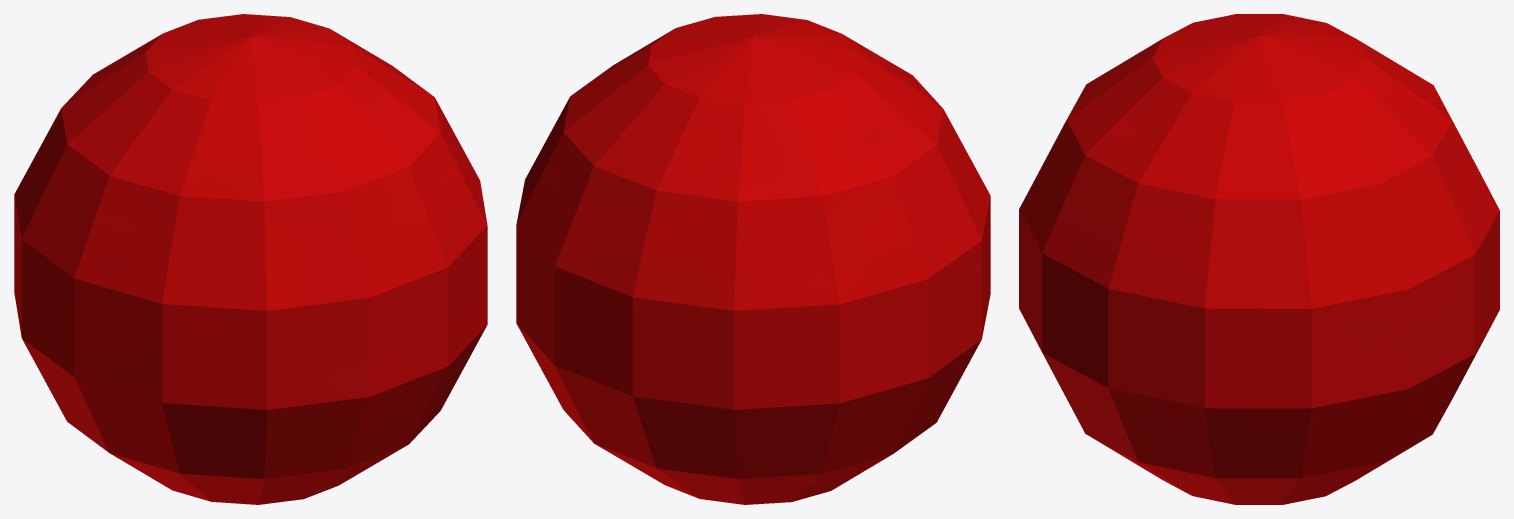
Rendered from CLOWN NOSE.fbx.
The picture shows the model from 3 angles, left to right: view 1: azimuth 30°, elevation 25°; view 2: azimuth 150°, elevation 25°; view 3: azimuth 270°, elevation 25°; orthographic projection.
Parts seen in each view (by area): view 1: CLOWN_NOSE; view 2: CLOWN_NOSE; view 3: CLOWN_NOSE.
Boxes of the visible parts, x1,y1,x2,y2 form: CLOWN_NOSE: [14, 14, 487, 504]; CLOWN_NOSE: [516, 14, 990, 504]; CLOWN_NOSE: [1019, 14, 1499, 504].
Bounding box in the file's own units: 4.92 × 5.17 × 5.04.
